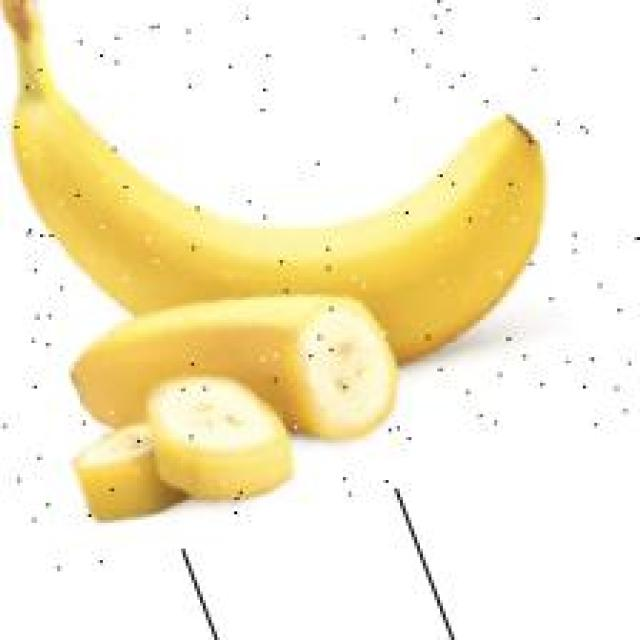banana: (2, 10, 559, 532)
